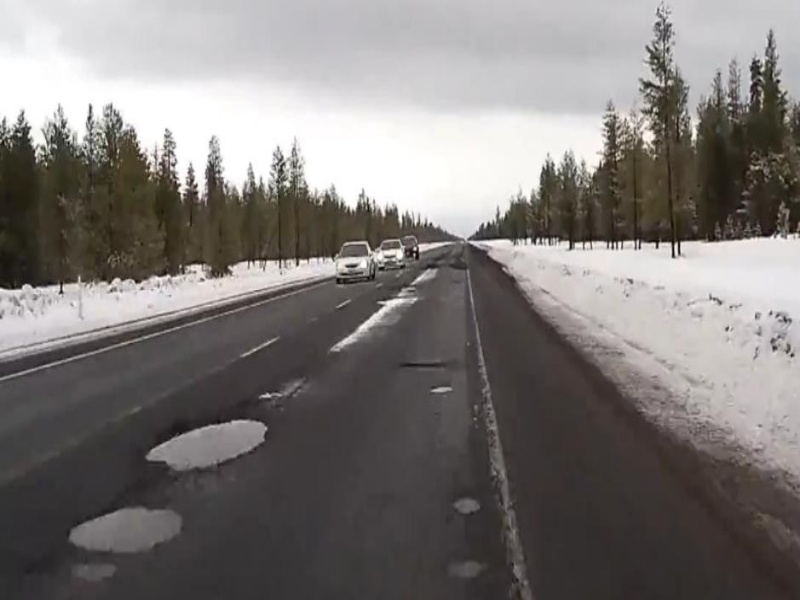pothole: (146, 412, 273, 477), (67, 501, 189, 557)
